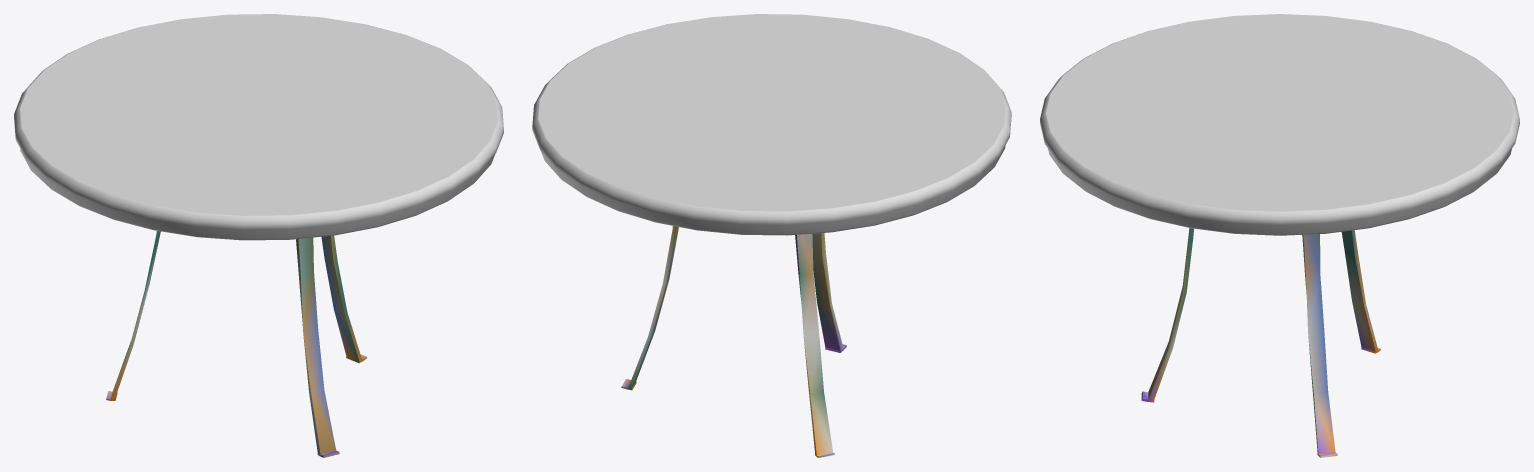
Rendered from stol.fbx.
3 renders of one model, left to right at view 1: azimuth 30°, elevation 25°; view 2: azimuth 150°, elevation 25°; view 3: azimuth 270°, elevation 25°, orthographic. The views are drawn at different scales.
Visible parts, largest first — view 1: stand; view 2: stand; view 3: stand.
Part boxes in pixels (<box>): stand: <box>14,14,503,457</box>; stand: <box>532,14,1011,457</box>; stand: <box>1040,14,1519,457</box>.
Size of the model in its own units: 115 by 75.55 by 115.
